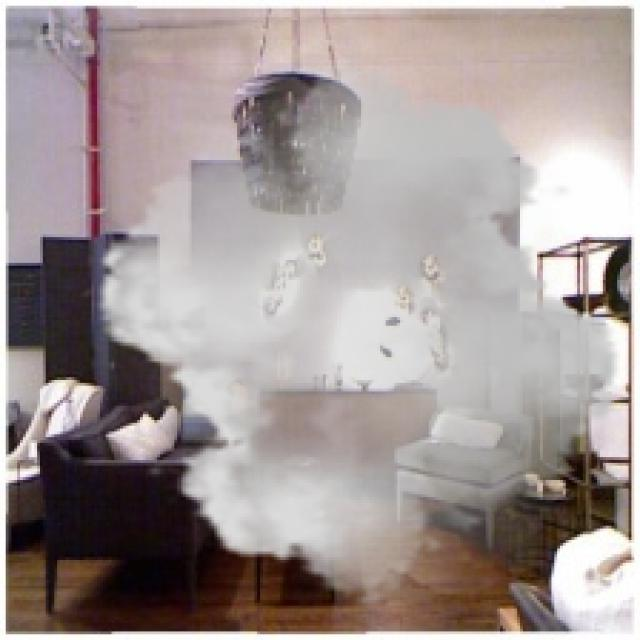smoke: (77, 54, 637, 609)
